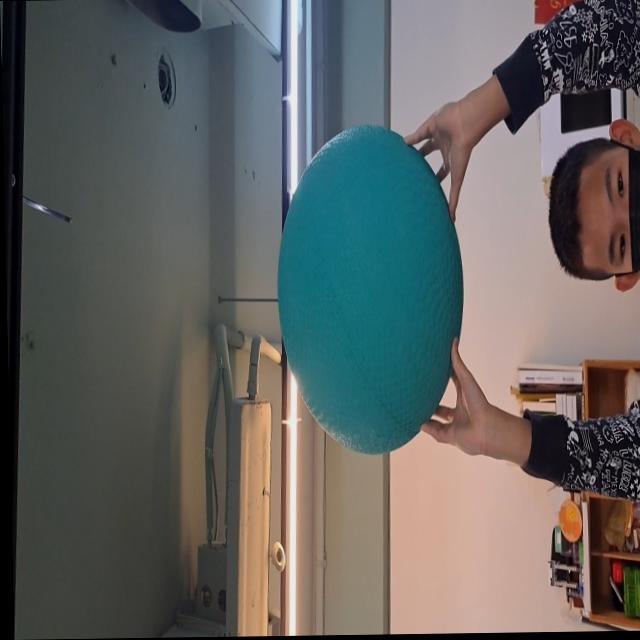ALGAE: (275, 122, 466, 455)
